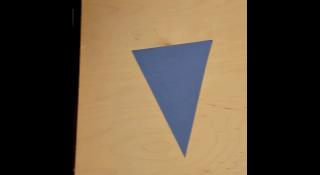Triangle: (132, 39, 212, 156)
